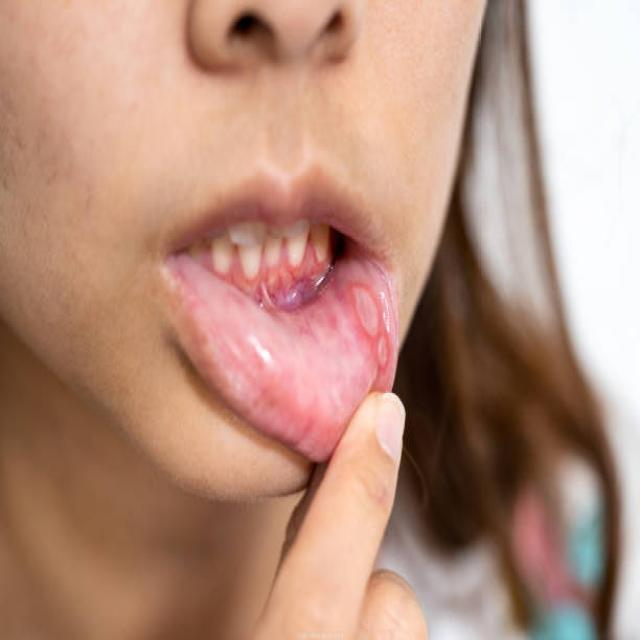processing_area: (173, 254, 403, 425)
ulcer-detection: (326, 245, 399, 380)
